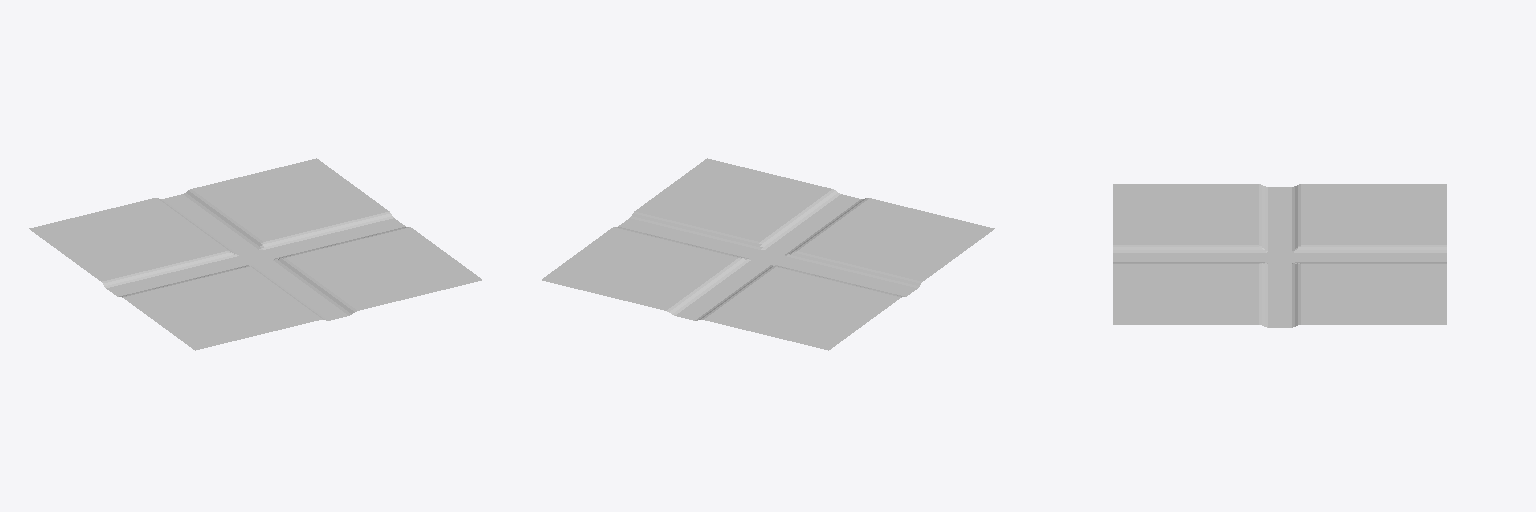
Rendered from Terrain_Part_Plane_8.obj.
3 renders of one model, left to right at view 1: azimuth 30°, elevation 25°; view 2: azimuth 150°, elevation 25°; view 3: azimuth 270°, elevation 25°, orthographic.
Visible parts, largest first — view 1: Terrain_Part_Plane_8_Plane.026; view 2: Terrain_Part_Plane_8_Plane.026; view 3: Terrain_Part_Plane_8_Plane.026.
Part boxes in pixels (x1,y1,x2,y2): Terrain_Part_Plane_8_Plane.026: (29, 158, 481, 350); Terrain_Part_Plane_8_Plane.026: (542, 158, 994, 350); Terrain_Part_Plane_8_Plane.026: (1113, 184, 1446, 327).
Bounding box in the file's own units: 20 × 0.2 × 20.